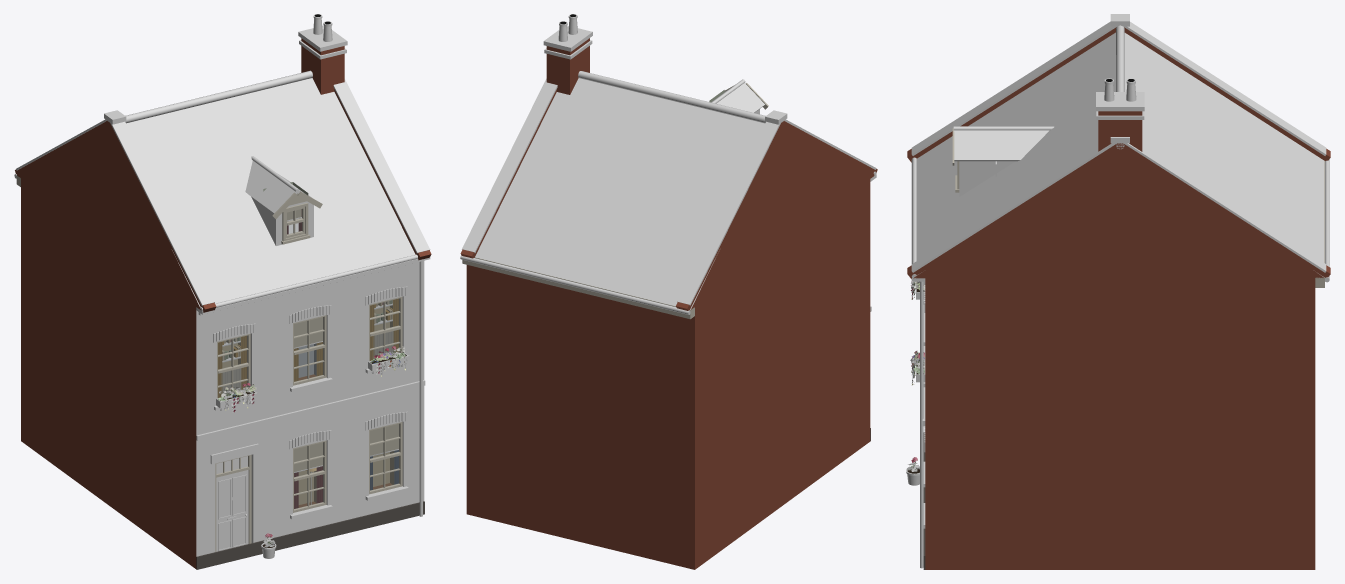
Rendered from terrace_60.glb.
The picture shows the model from 3 angles, left to right: view 1: azimuth 30°, elevation 25°; view 2: azimuth 150°, elevation 25°; view 3: azimuth 270°, elevation 25°; orthographic projection. The views are drawn at different scales.
Visible parts, largest first — view 1: terrace_60; view 2: terrace_60; view 3: terrace_60.
Boxes of the visible parts, x1,y1,x2,y2 form: terrace_60: (14, 14, 431, 569); terrace_60: (460, 14, 877, 569); terrace_60: (906, 14, 1330, 569).
Size of what is drawn, in the model's own units: 6.02 by 10.91 by 8.71.
